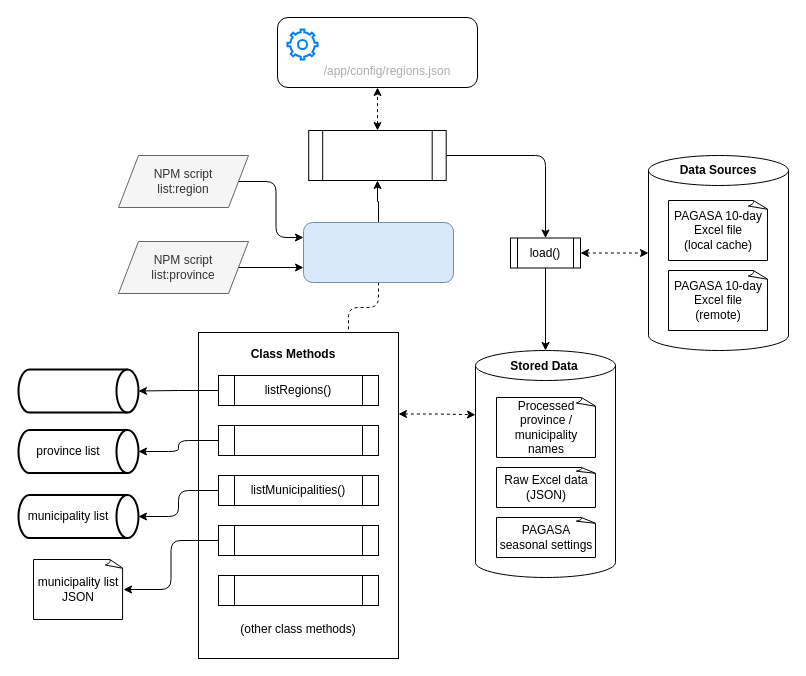
Some shapes in this 806 by 676 pixel diagram are drawn without their labels. The shapes that lost their labels are listed below. From the top down, each one's box as (x1, y1, x2, y2) in pixels, then its label:
(286, 28, 318, 60): PAGASA seasonal settings (region - province names)
(308, 130, 446, 180): new ExcelFile() new ExcelFactory()
(302, 222, 454, 282): ExcelFile / ExcelFactory (class)
(17, 368, 139, 413): region list
(218, 424, 378, 456): listAllProvinces()
(218, 524, 378, 556): writeMuniicipalities()
(218, 574, 378, 606): get()*
